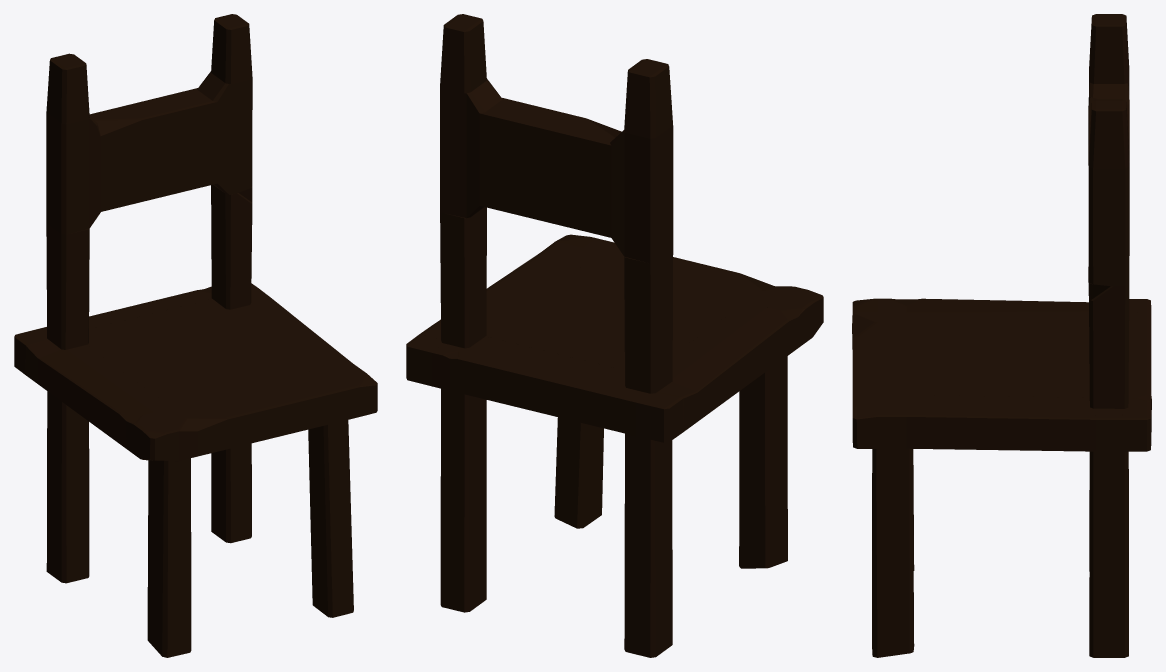
The model's file is wooden chair.fbx.
3 views of the same model, side by side, from view 1: azimuth 30°, elevation 25°; view 2: azimuth 150°, elevation 25°; view 3: azimuth 270°, elevation 25° (orthographic). The views are drawn at different scales.
Parts seen in each view (by area): view 1: Wooden _Chair; view 2: Wooden _Chair; view 3: Wooden _Chair.
Boxes of the visible parts, left/top/right/bottom form: Wooden _Chair: left=14, top=14, right=377, bottom=657; Wooden _Chair: left=406, top=14, right=823, bottom=657; Wooden _Chair: left=852, top=14, right=1151, bottom=657.
Bounding box in the file's own units: 80.89 × 170 × 84.31.
